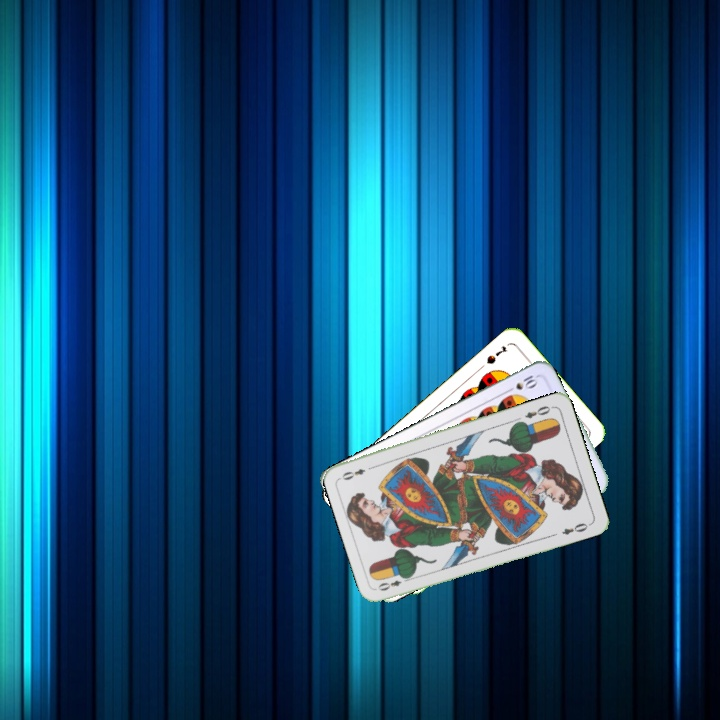EO: (374, 572, 413, 593), (521, 402, 556, 421)
S10: (502, 371, 541, 395)
S7: (483, 342, 511, 367)
